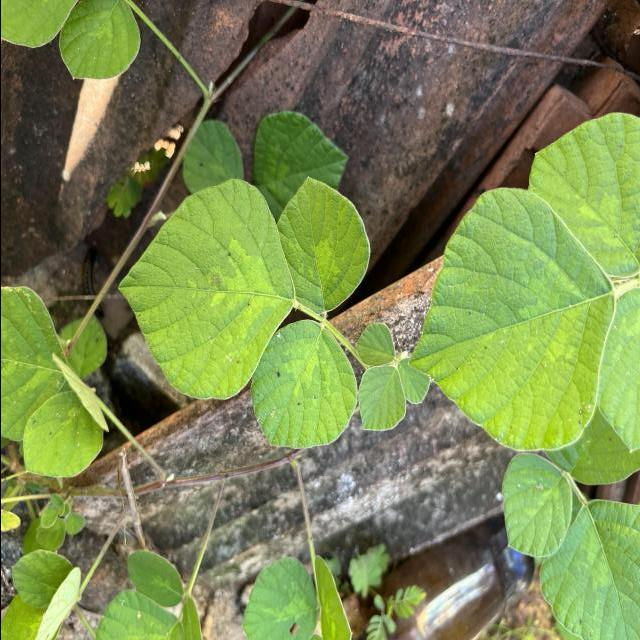Pseudarthria viscida: (115, 173, 372, 452), (355, 322, 430, 432)
